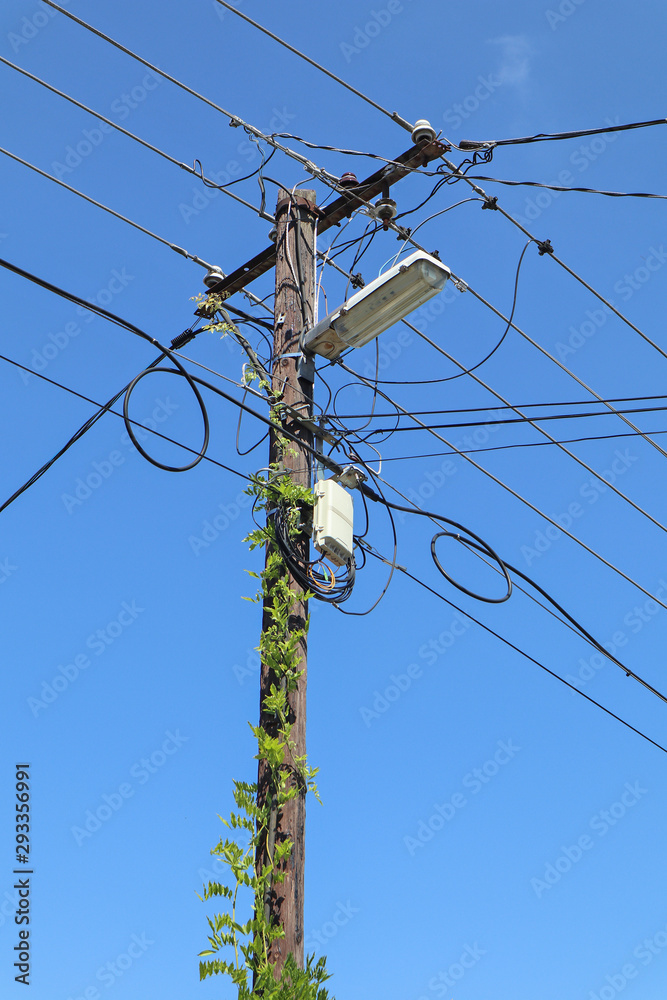light_pole: (247, 174, 326, 1000)
